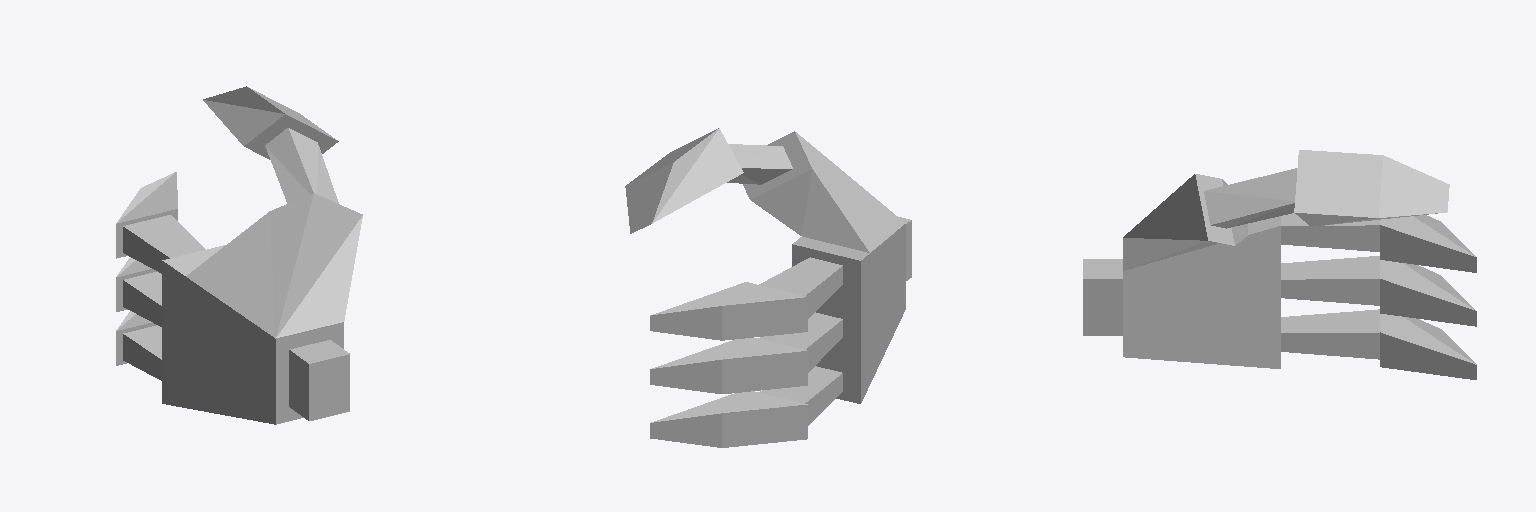
Rendered from left_hand.obj.
3 views of the same model, side by side, from view 1: azimuth 30°, elevation 25°; view 2: azimuth 150°, elevation 25°; view 3: azimuth 270°, elevation 25° (orthographic).
Parts seen in each view (by area): view 1: cube2; view 2: cube2; view 3: cube2.
Part boxes in pixels (left/top/right/bottom): cube2: left=116, top=86, right=362, bottom=424; cube2: left=625, top=128, right=911, bottom=447; cube2: left=1083, top=150, right=1476, bottom=379.
Bounding box in the file's own units: 0.0871 × 0.1118 × 0.1593.